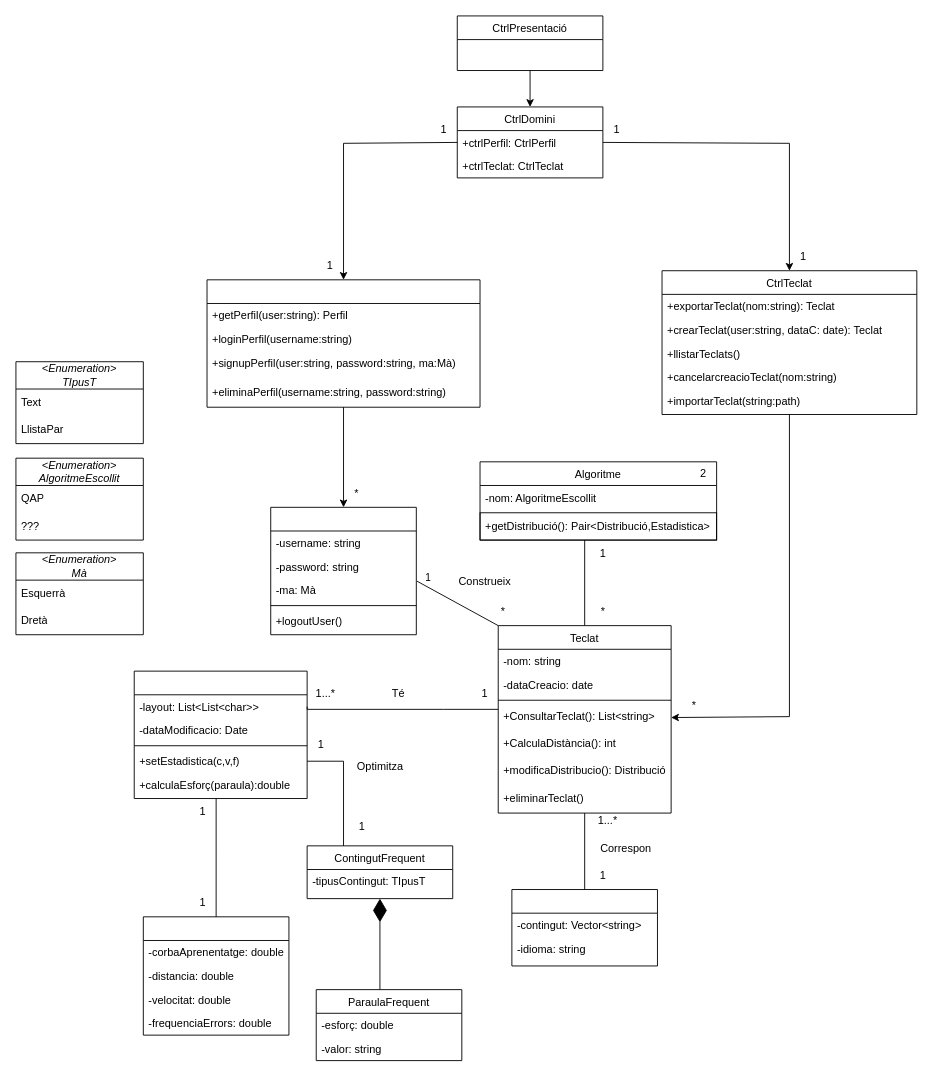
Image size: 933x1079. Some labels were removed from this diagram. The shapes that lost their labels are listed below. From the top down, each one's box as (x1, y1, x2, y2) in pixels, then its label:
(206, 279, 480, 407): CtrlPerfil
(270, 506, 416, 635): Perfil
(133, 670, 307, 799): Distribució
(511, 889, 657, 966): Alfabet
(142, 916, 289, 1035): Estadistica
